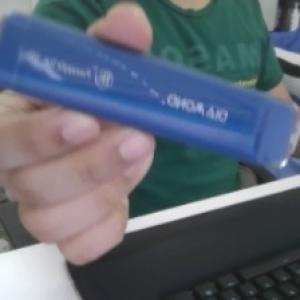Diamond-E-Ciggirate: (0, 9, 300, 175)
